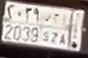0: (13, 9, 22, 41)
2: (3, 3, 15, 40)
3: (22, 7, 32, 43)
9: (30, 6, 40, 43)
A: (60, 15, 69, 45)
S: (42, 14, 52, 42)
Z: (51, 13, 60, 43)
